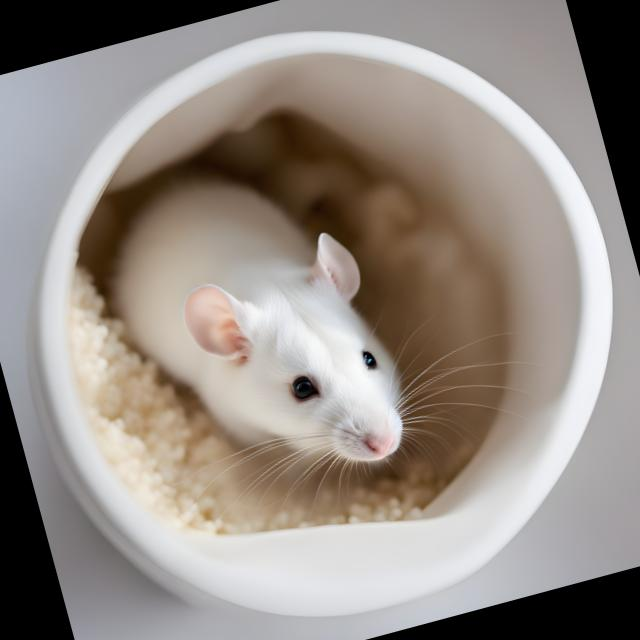rodent: (72, 100, 448, 540)
